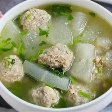dongguawanzi: (1, 3, 112, 106)
